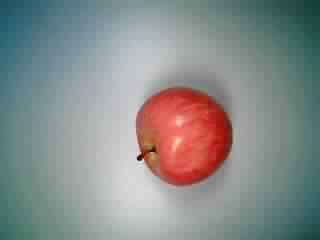apple: (133, 86, 237, 190)
